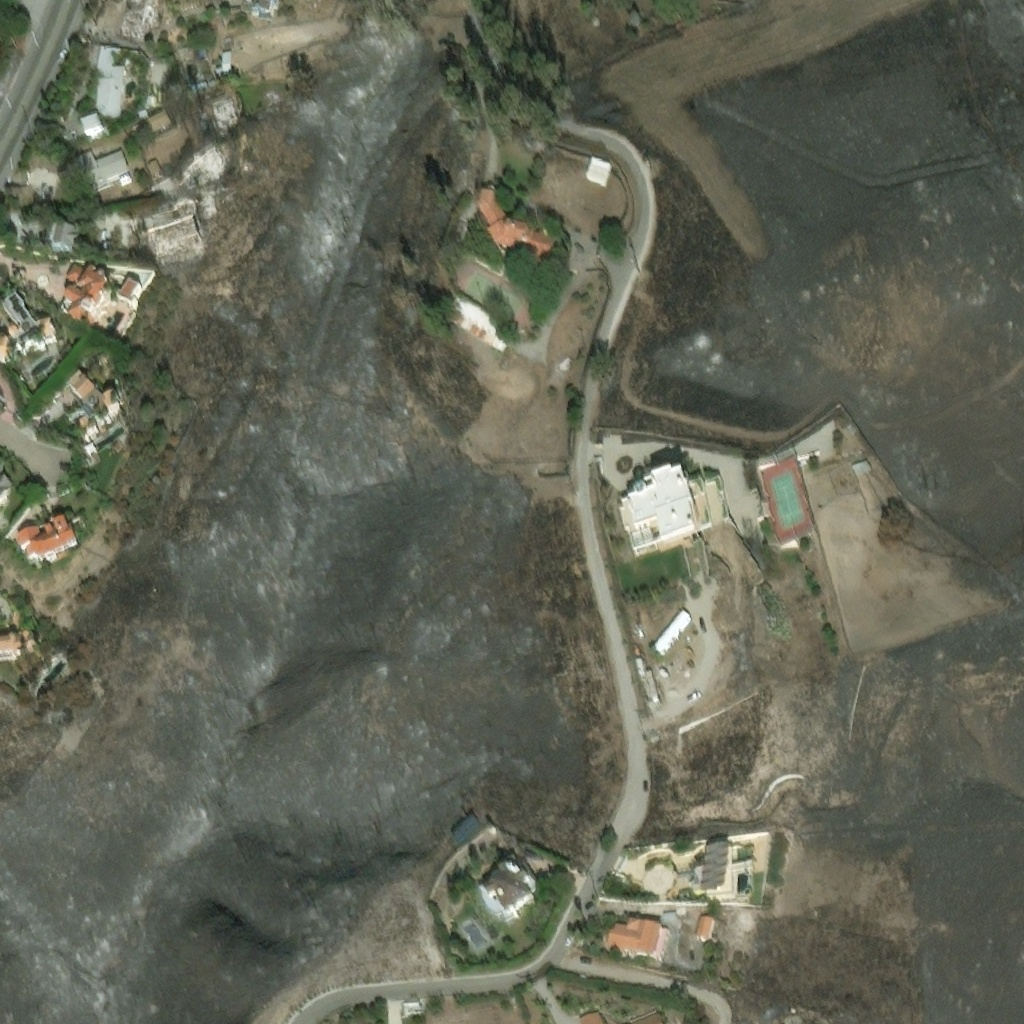0 no-damage: (621, 474, 708, 556), (476, 186, 558, 265), (58, 260, 119, 328), (445, 286, 514, 346), (66, 371, 121, 442), (2, 288, 59, 351), (479, 854, 538, 914), (16, 520, 82, 572), (65, 146, 132, 195), (85, 40, 126, 118), (605, 913, 669, 958), (692, 842, 735, 897), (649, 607, 694, 653), (0, 635, 43, 667), (640, 857, 676, 892), (5, 205, 42, 239), (581, 152, 615, 184), (50, 224, 84, 250), (116, 283, 143, 313), (694, 912, 719, 944), (620, 1007, 666, 1023), (79, 114, 105, 139), (575, 1004, 606, 1023), (214, 48, 233, 77), (0, 470, 13, 512), (641, 664, 657, 698), (0, 593, 14, 630), (398, 993, 425, 1010), (0, 337, 16, 363), (852, 462, 872, 478), (146, 162, 163, 180), (660, 908, 675, 917), (657, 665, 668, 675), (224, 35, 232, 44), (143, 0, 155, 5)
3 destroyed: (143, 217, 206, 263), (140, 57, 183, 110), (182, 148, 230, 190), (212, 90, 249, 129), (117, 3, 157, 39), (456, 149, 484, 194), (242, 0, 282, 21), (204, 201, 217, 222)
